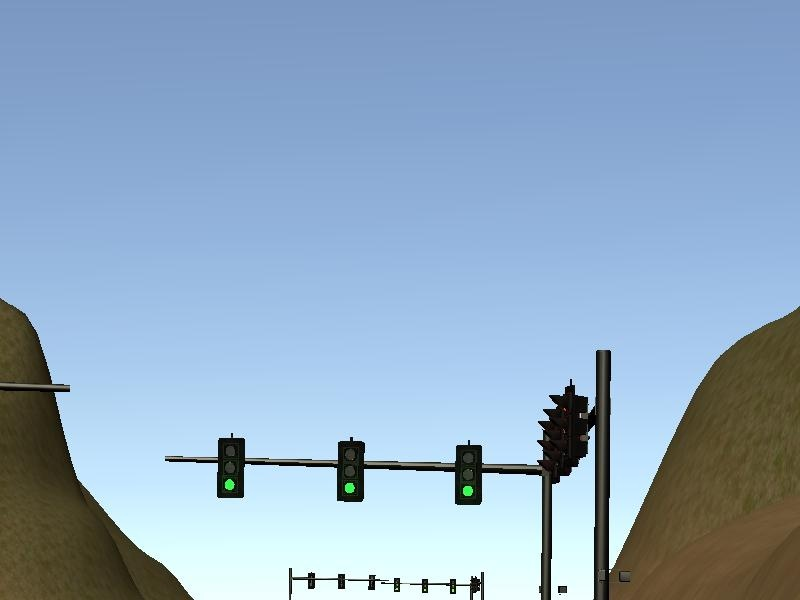GREEN: (213, 438, 248, 500), (334, 440, 366, 504), (453, 443, 485, 507)
